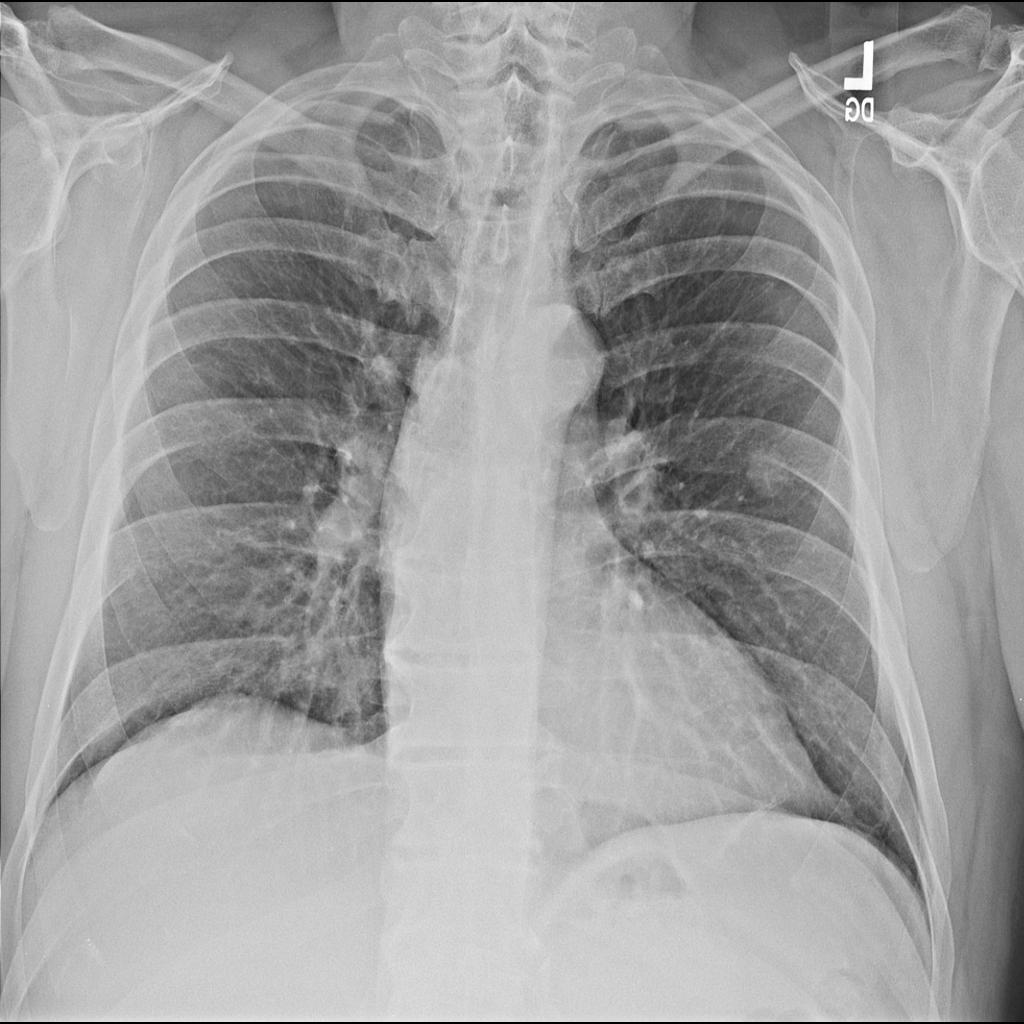Nodule: (743, 444, 803, 509)
